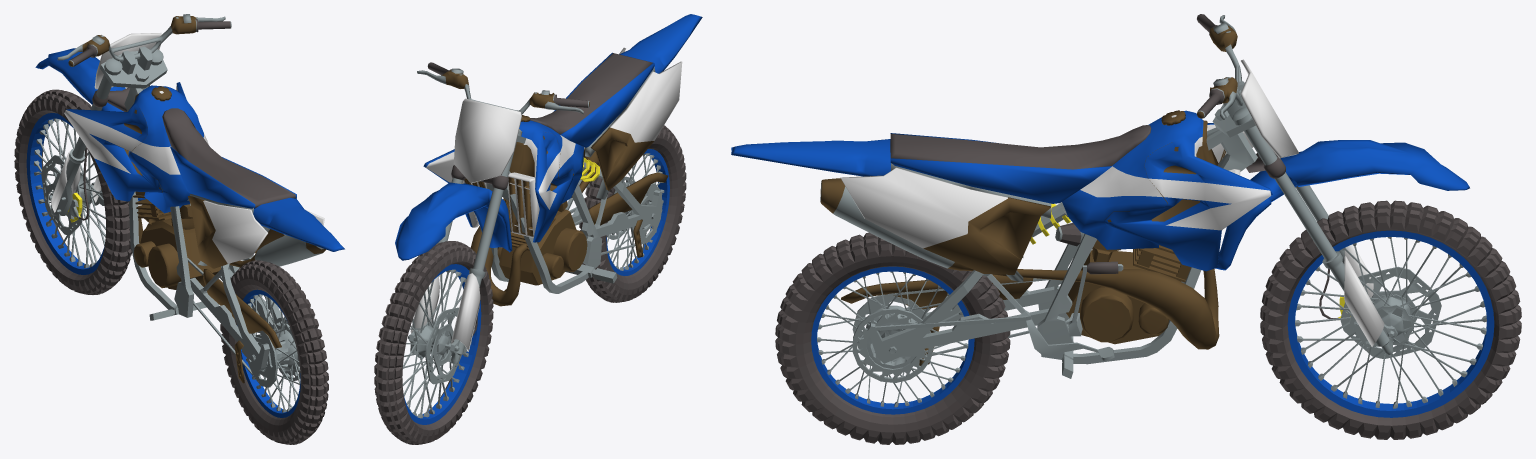
File: body.glb
The picture shows the model from 3 angles, left to right: view 1: azimuth 30°, elevation 25°; view 2: azimuth 150°, elevation 25°; view 3: azimuth 270°, elevation 25°; orthographic projection. The views are drawn at different scales.
Visible parts, largest first — view 1: new z marco dt, new yz tanque, new yz asiento, new z marco dt.001, new yz tapas laterales, new yz manubrio, new yz guarda barros delantero, new yz mofle, new yz carenaje, new z kx marco.001; view 2: new z marco dt, new yz asiento, new yz tanque, new yz tapas laterales, new yz guarda barros delantero, new yz carenaje, new z marco dt.001, new z kx marco.001, new yz manubrio, new yz mofle; view 3: new z marco dt, new yz tanque, new yz asiento, new yz tapas laterales, new z marco dt.001, new yz mofle, new yz guarda barros delantero, new yz manubrio, new z kx marco.001, new yz carenaje.
Boxes of the visible parts, left/top/right/bottom form: new z marco dt: left=14, top=46, right=328, bottom=444; new yz tanque: left=64, top=82, right=208, bottom=213; new yz asiento: left=162, top=108, right=344, bottom=265; new z marco dt.001: left=190, top=255, right=300, bottom=383; new yz tapas laterales: left=188, top=196, right=324, bottom=268; new yz manubrio: left=57, top=14, right=231, bottom=66; new yz guarda barros delantero: left=35, top=48, right=146, bottom=200; new yz mofle: left=138, top=205, right=325, bottom=267; new yz carenaje: left=94, top=33, right=161, bottom=89; new z kx marco.001: left=51, top=150, right=101, bottom=212; new z marco dt: left=374, top=125, right=686, bottom=444; new yz asiento: left=530, top=14, right=702, bottom=199; new yz tanque: left=423, top=115, right=583, bottom=242; new yz tapas laterales: left=590, top=47, right=682, bottom=190; new yz guarda barros delantero: left=395, top=182, right=512, bottom=260; new yz carenaje: left=453, top=98, right=521, bottom=183; new z marco dt.001: left=565, top=157, right=668, bottom=257; new z kx marco.001: left=410, top=273, right=480, bottom=351; new yz manubrio: left=417, top=62, right=589, bottom=114; new yz mofle: left=470, top=108, right=626, bottom=306; new z marco dt: left=775, top=81, right=1521, bottom=444; new yz tanque: left=1062, top=110, right=1272, bottom=271; new yz asiento: left=731, top=125, right=1151, bottom=282; new yz tapas laterales: left=840, top=167, right=1050, bottom=274; new z marco dt.001: left=841, top=202, right=1071, bottom=382; new yz mofle: left=820, top=178, right=1219, bottom=349; new yz guarda barros delantero: left=1215, top=140, right=1469, bottom=270; new yz manubrio: left=1197, top=14, right=1242, bottom=119; new z kx marco.001: left=1344, top=244, right=1384, bottom=346; new yz carenaje: left=1240, top=59, right=1298, bottom=158.
Size of the model in its own units: 0.6559 by 1.18 by 2.15.
